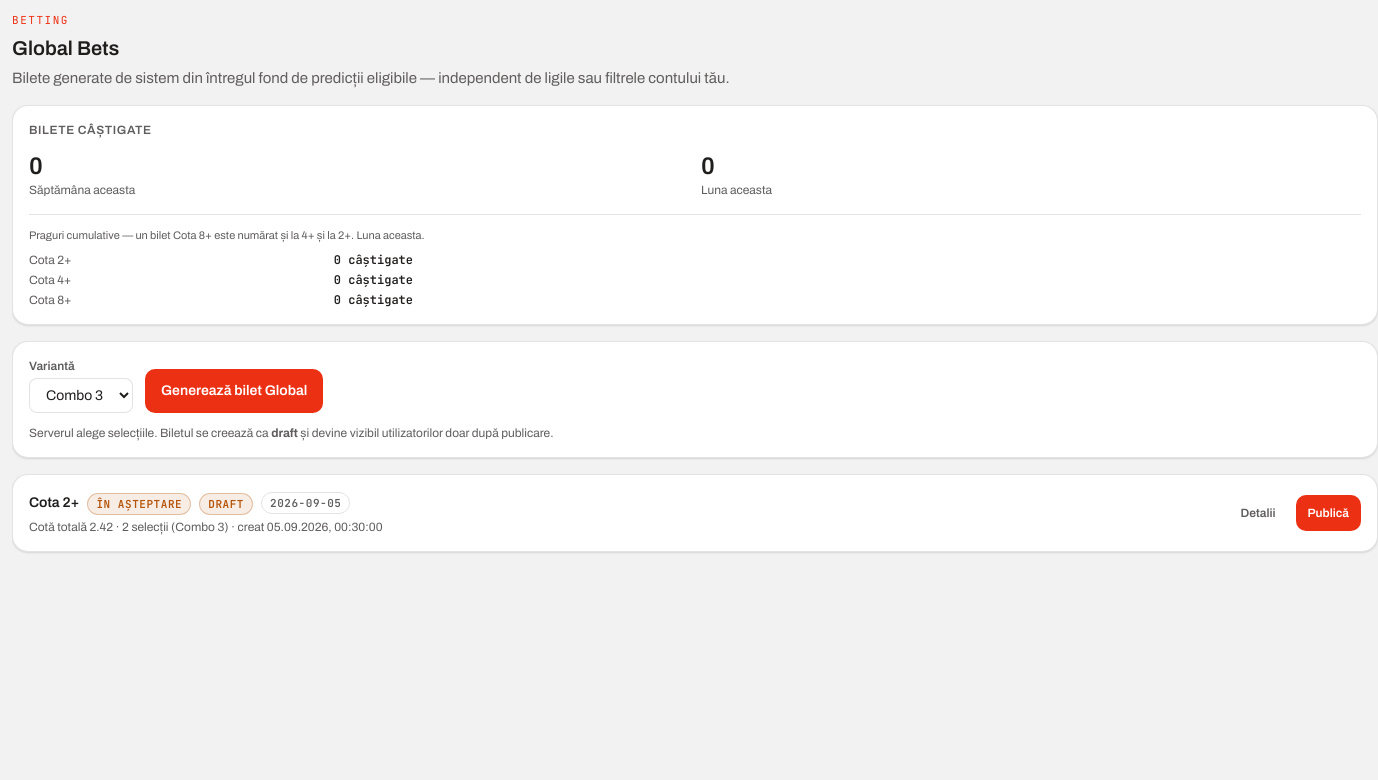
Test: ticket rendering and details › exposes the stored selections on demand, and no candidate internals
Click the button "Detalii" at [1258, 513], box [1229,495,1288,531]
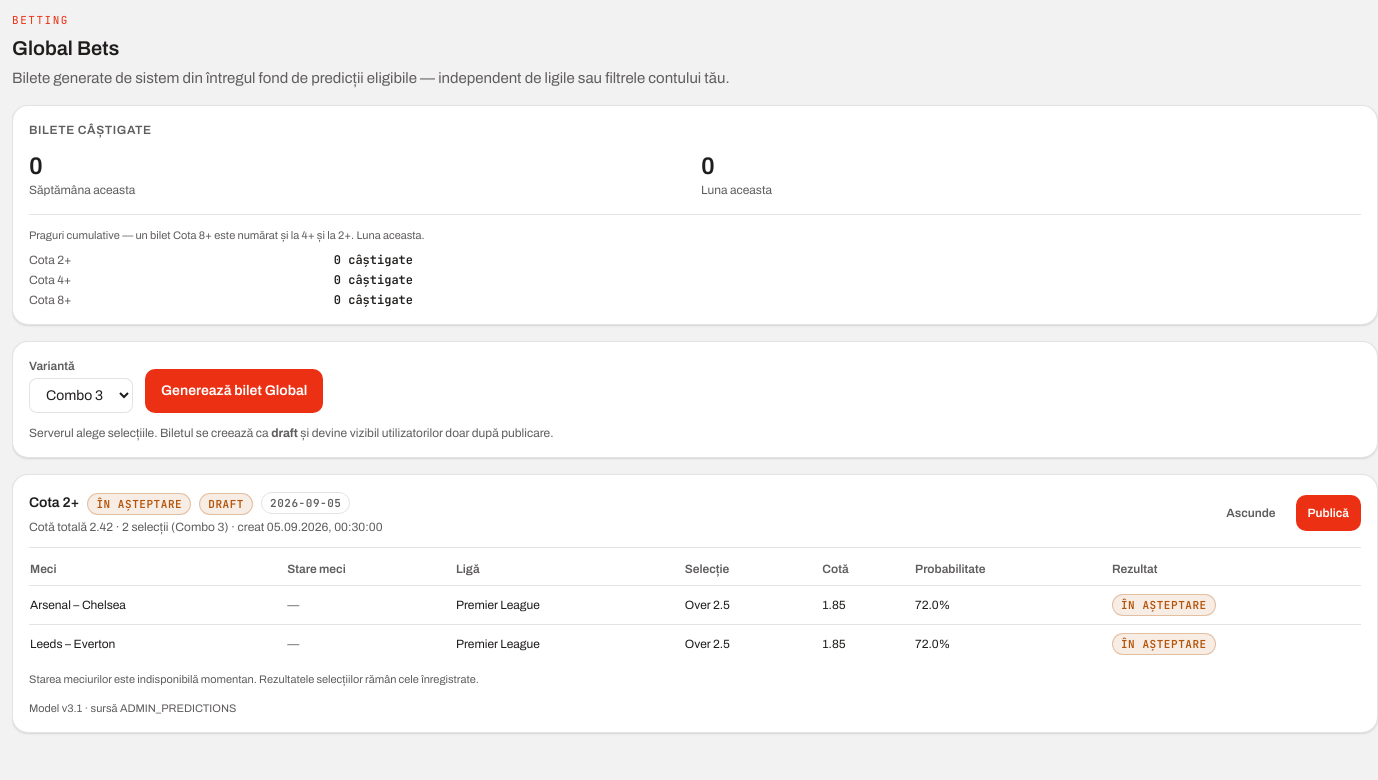
Result: the text "Arsenal – Chelsea" is shown at [29,586,286,624]
Result: the text "Leeds – Everton" is shown at [29,624,286,663]
Result: the text "Over 2.5" in the row of "Arsenal – Chelsea" is shown at [685,598,730,612]
